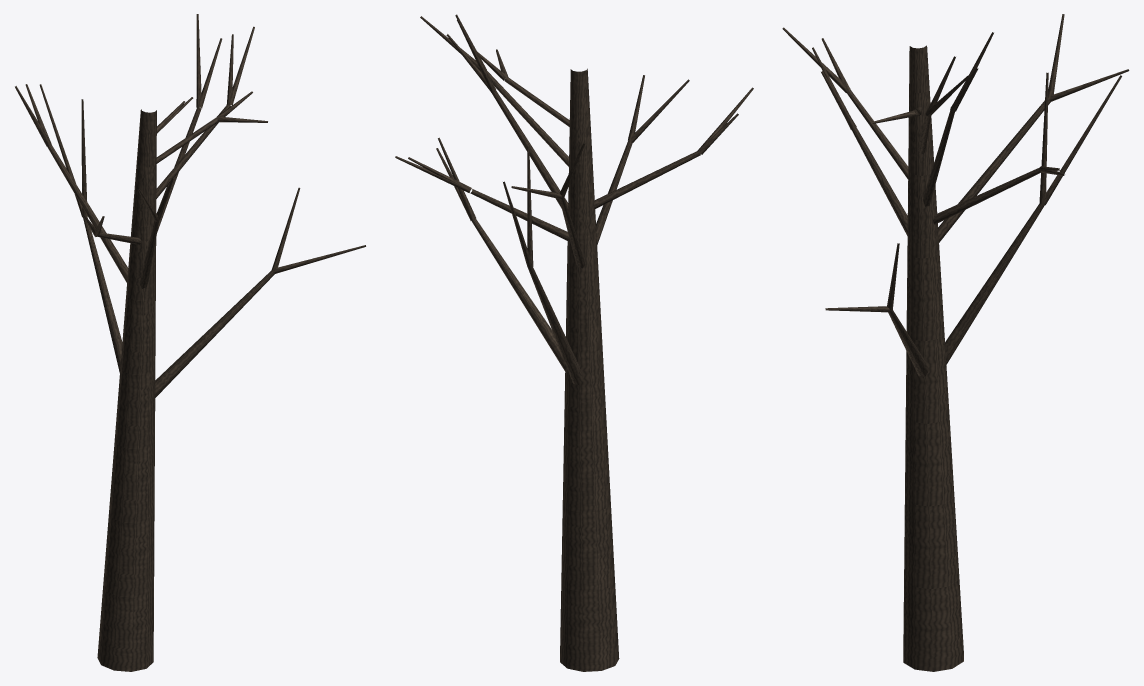
The model's file is dead_tree_3.glb.
3 views of the same model, side by side, from view 1: azimuth 30°, elevation 25°; view 2: azimuth 150°, elevation 25°; view 3: azimuth 270°, elevation 25° (orthographic). The views are drawn at different scales.
Visible parts, largest first — view 1: dead_tree_3; view 2: dead_tree_3; view 3: dead_tree_3.
Boxes of the visible parts, left/top/right/bottom form: dead_tree_3: left=15, top=14, right=365, bottom=671; dead_tree_3: left=395, top=14, right=753, bottom=671; dead_tree_3: left=782, top=14, right=1129, bottom=671.
Bounding box in the file's own units: 3.26 × 6.6 × 3.05.
Materials: 1 (1 with a texture image).
